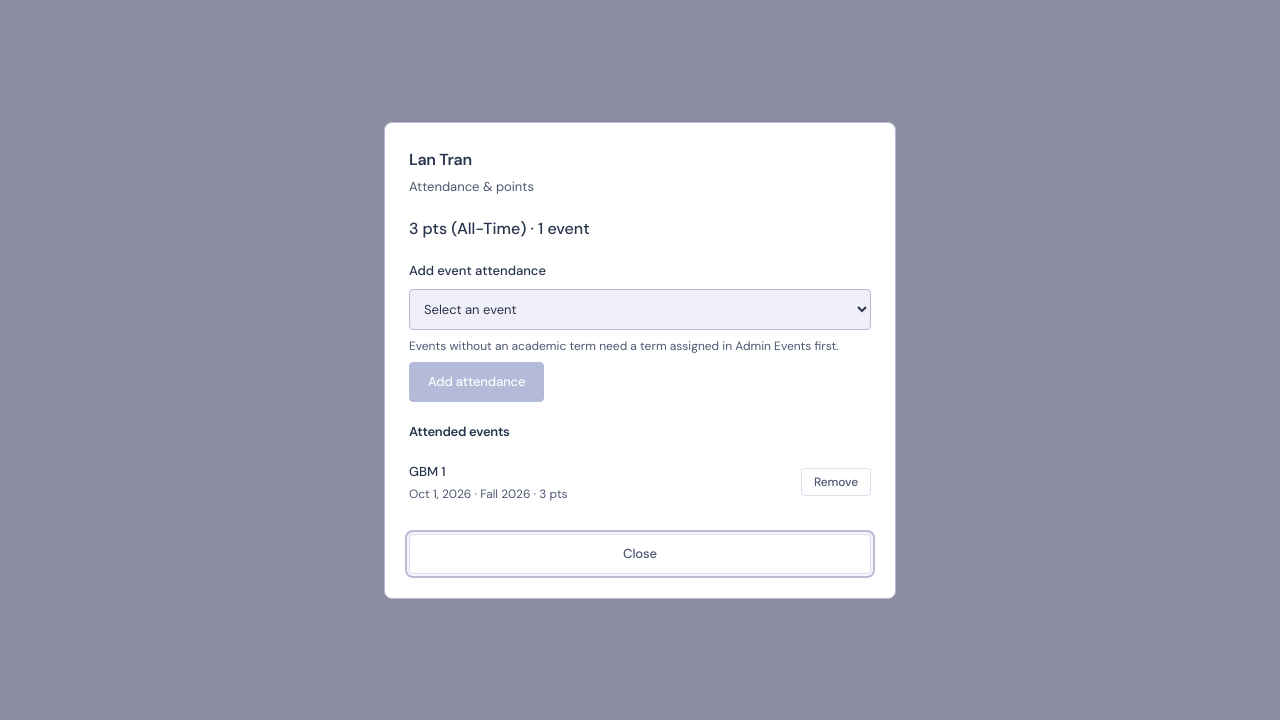
Test case: confirms the member and event before removing attendance, then refreshes totals
Click the button with aria-label "Remove GBM 1 attendance" at {"x": 836, "y": 482}, box [801,468,871,496]
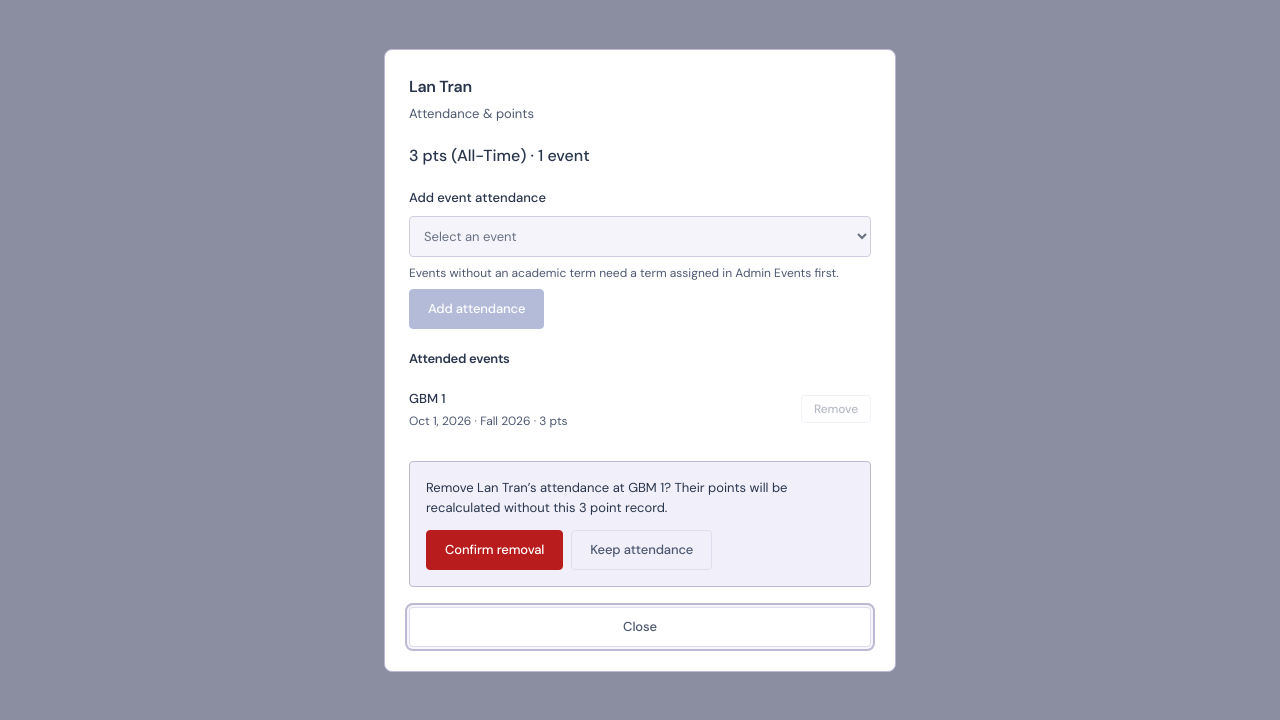
Expected: the text "Remove Lan Tran’s attendance at GBM 1" is shown, [426,478,787,516]
Click the button "Confirm removal" at {"x": 495, "y": 550}, box [426,530,563,570]
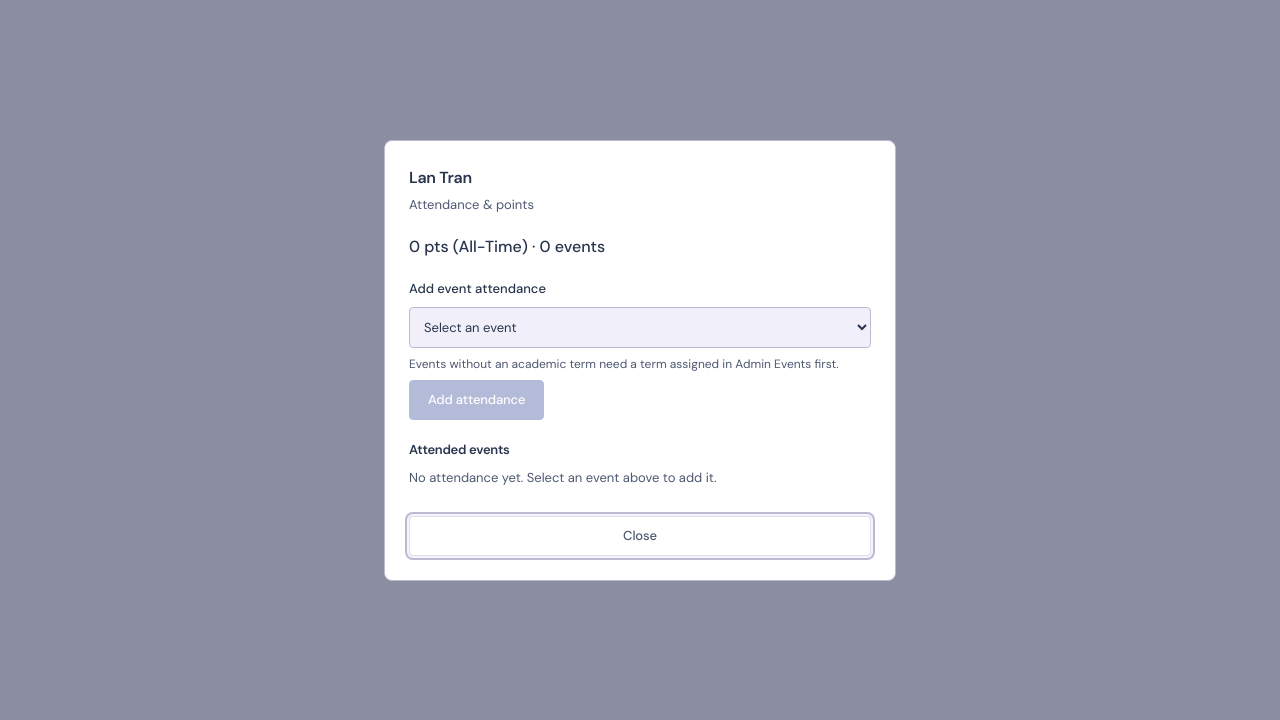
Expected: the text "0 pts (All-Time) · 0 events" is shown, [409,236,605,256]
